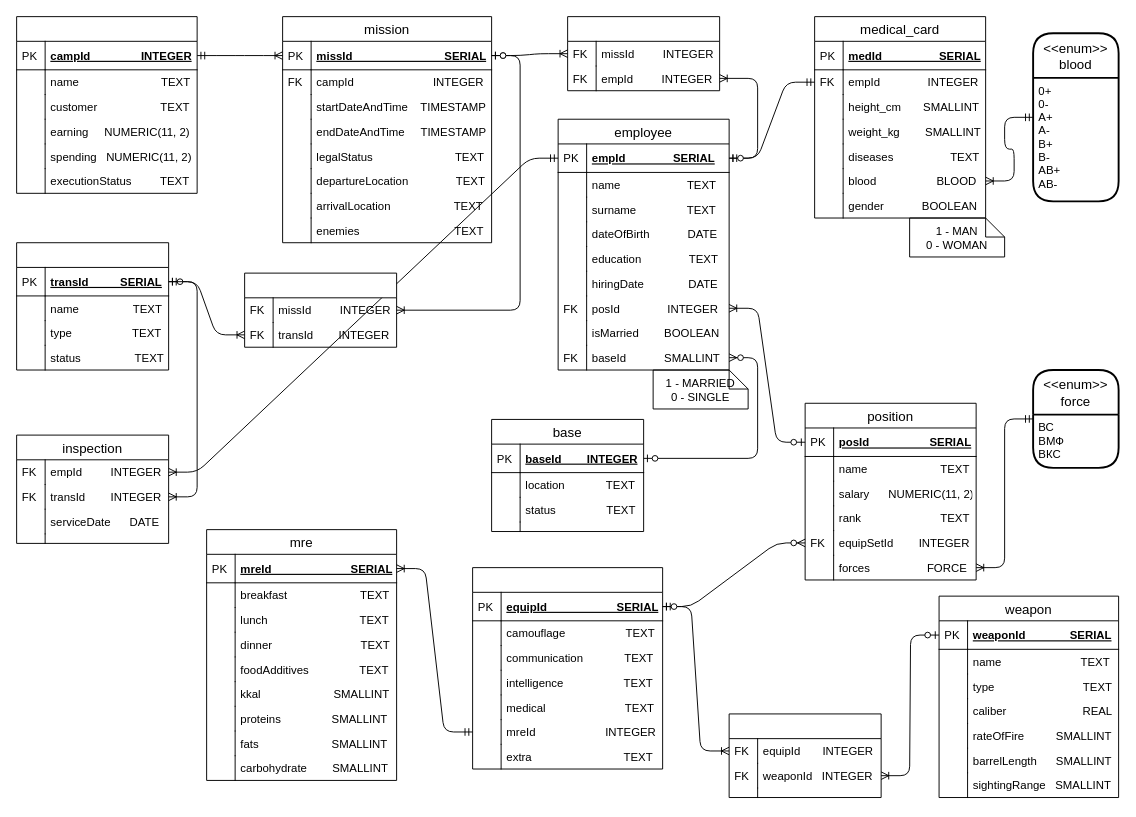
This 1136x817 diagram has some shape labels left out. The box of each missing label's shape, as (x1, y1, x2, y2) in pixels:
campaing: (16, 16, 197, 193)
equip_weapon: (728, 713, 881, 798)
equipment: (472, 567, 663, 769)
missions_emp: (567, 16, 720, 91)
missions_transport: (244, 272, 397, 347)
transport: (16, 242, 169, 370)
